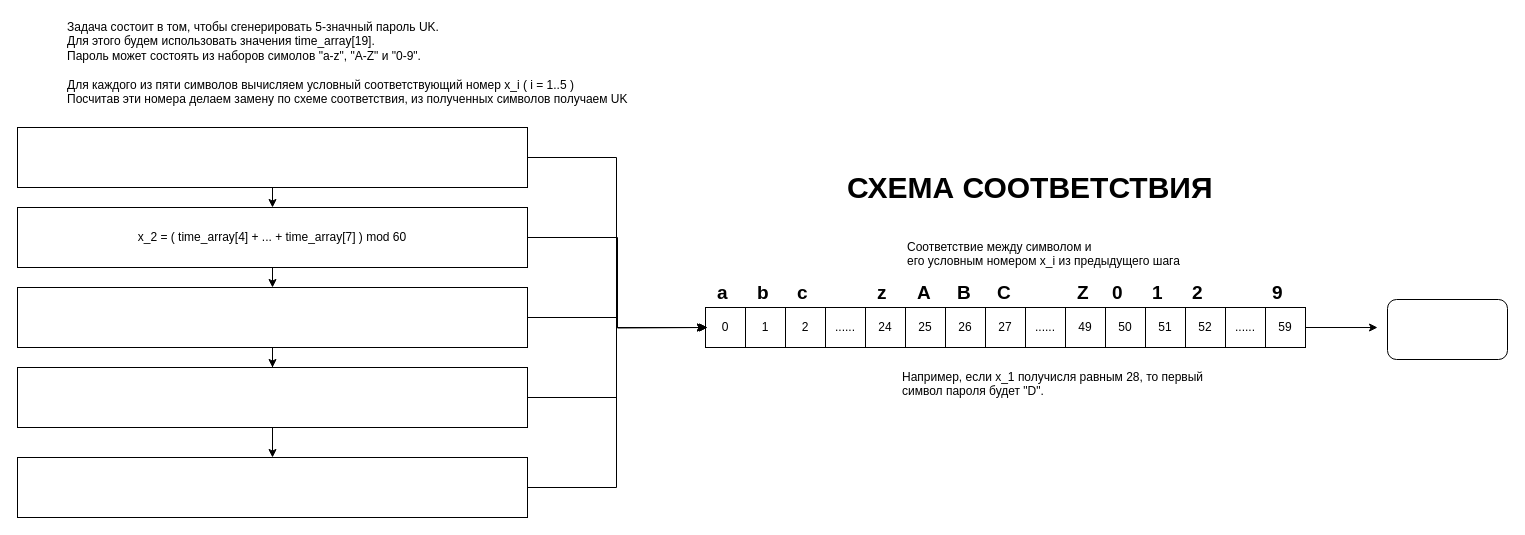
The diagram is 1525 pixels wide and 535 high, and some of its shapes have lost their labels. The shapes that lost their labels are listed below. From the top down, each one's box as (x1, y1, x2, y2) in pixels, then its label:
(16, 126, 528, 188): x_1 = ( time_array[0] + ... + time_array[3] ) mod 60
(16, 286, 528, 348): x_3 = ( time_array[8] + ... + time_array[11] ) mod 60
(1386, 298, 1508, 360): UK
(16, 366, 528, 428): x_4 = ( time_array[12] + ... + time_array[15] ) mod 60
(16, 456, 528, 518): x_5 = ( time_array[16] + ... + time_array[19] ) mod 60
